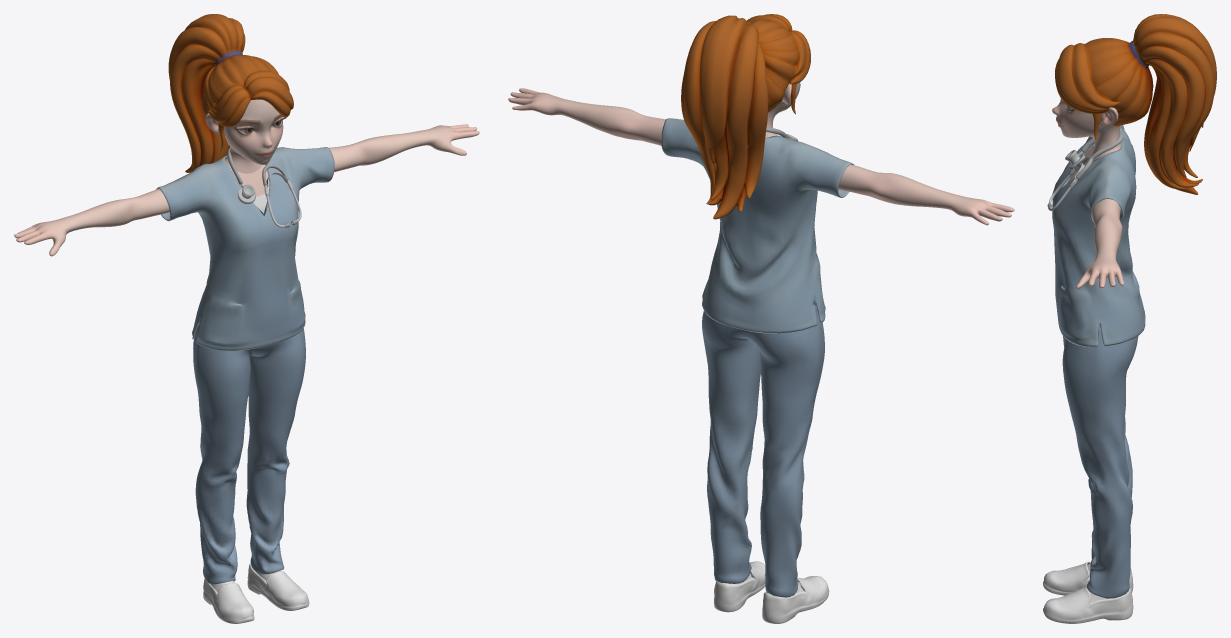
Rendered from brenda.glb.
The picture shows the model from 3 angles, left to right: view 1: azimuth 30°, elevation 25°; view 2: azimuth 150°, elevation 25°; view 3: azimuth 270°, elevation 25°; orthographic projection. The views are drawn at different scales.
Visible parts, largest first — view 1: pants, shirt, hair, arm, head, th2, th1; view 2: pants, shirt, hair, arm, th2; view 3: hair, pants, shirt, th2, arm, head, th1.
Part boxes in pixels (<box>): pants: <box>193,326,305,584</box>; shirt: <box>156,147,334,350</box>; hair: <box>168,14,293,172</box>; arm: <box>14,124,479,256</box>; head: <box>205,99,286,213</box>; th2: <box>203,562,309,623</box>; th1: <box>227,147,301,227</box>; pants: <box>702,305,824,597</box>; shirt: <box>661,118,854,333</box>; hair: <box>681,14,810,219</box>; arm: <box>508,88,1014,225</box>; th2: <box>714,561,829,623</box>; hair: <box>1055,14,1216,194</box>; pants: <box>1062,322,1138,598</box>; shirt: <box>1052,125,1145,346</box>; th2: <box>1043,561,1133,623</box>; arm: <box>1076,145,1123,288</box>; head: <box>1052,98,1121,183</box>; th1: <box>1047,131,1123,211</box>.
Size of the model in its own units: 1.48 by 1.73 by 0.4643.
Materials: 8 (8 with a texture image).
